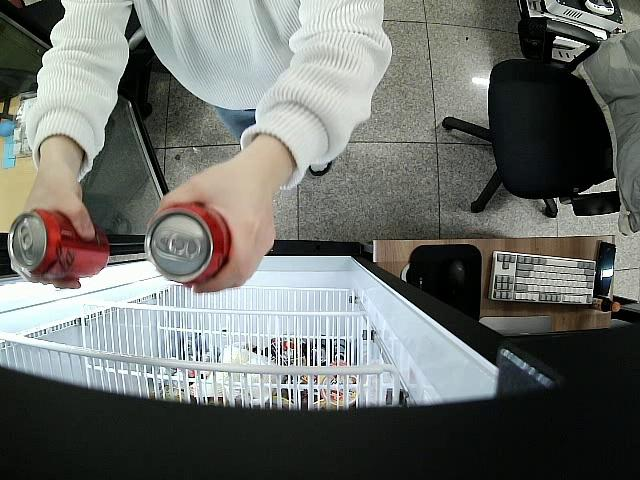00_hand: (147, 155, 275, 292), (11, 168, 96, 292)
11_cocaColaZero: (7, 207, 110, 281), (144, 201, 230, 286)
